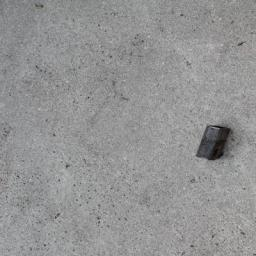FOD: (196, 123, 233, 168)
